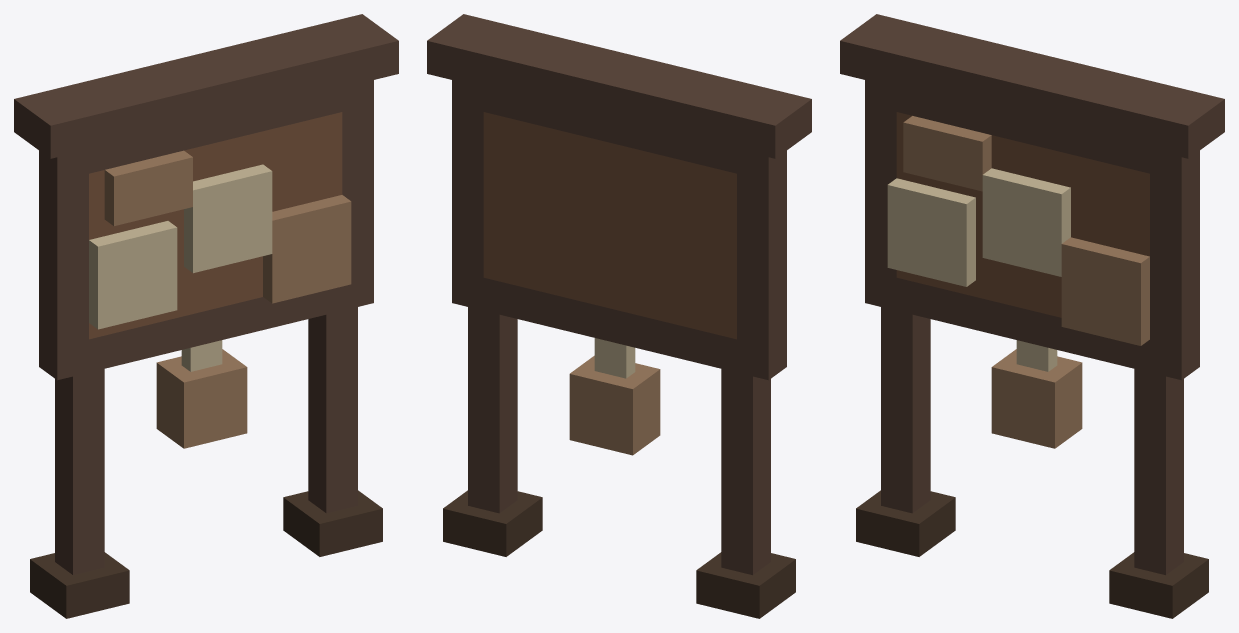
File: hearthvale_notice_board.obj
3 views of the same model, side by side, from view 1: azimuth 30°, elevation 25°; view 2: azimuth 150°, elevation 25°; view 3: azimuth 330°, elevation 25° (orthographic).
Visible parts, largest first — view 1: palette_8, palette_7, palette_6, palette_1, palette_11; view 2: palette_8, palette_1, palette_11, palette_7, palette_6; view 3: palette_8, palette_7, palette_6, palette_1, palette_11.
Boxes of the visible parts, x1,y1,x2,y2 form: palette_8: (14,14,398,575); palette_7: (104,150,351,448); palette_6: (89,164,272,371); palette_1: (89,112,342,339); palette_11: (30,490,382,618); palette_8: (427,14,811,575); palette_1: (483,112,736,339); palette_11: (443,490,795,618); palette_7: (569,355,660,455); palette_6: (594,338,635,378); palette_8: (840,14,1224,575); palette_7: (903,116,1149,448); palette_6: (887,168,1070,371); palette_1: (896,112,1149,317); palette_11: (856,490,1208,618).
Bounding box in the file's own units: 1.38 × 1.88 × 0.25.
